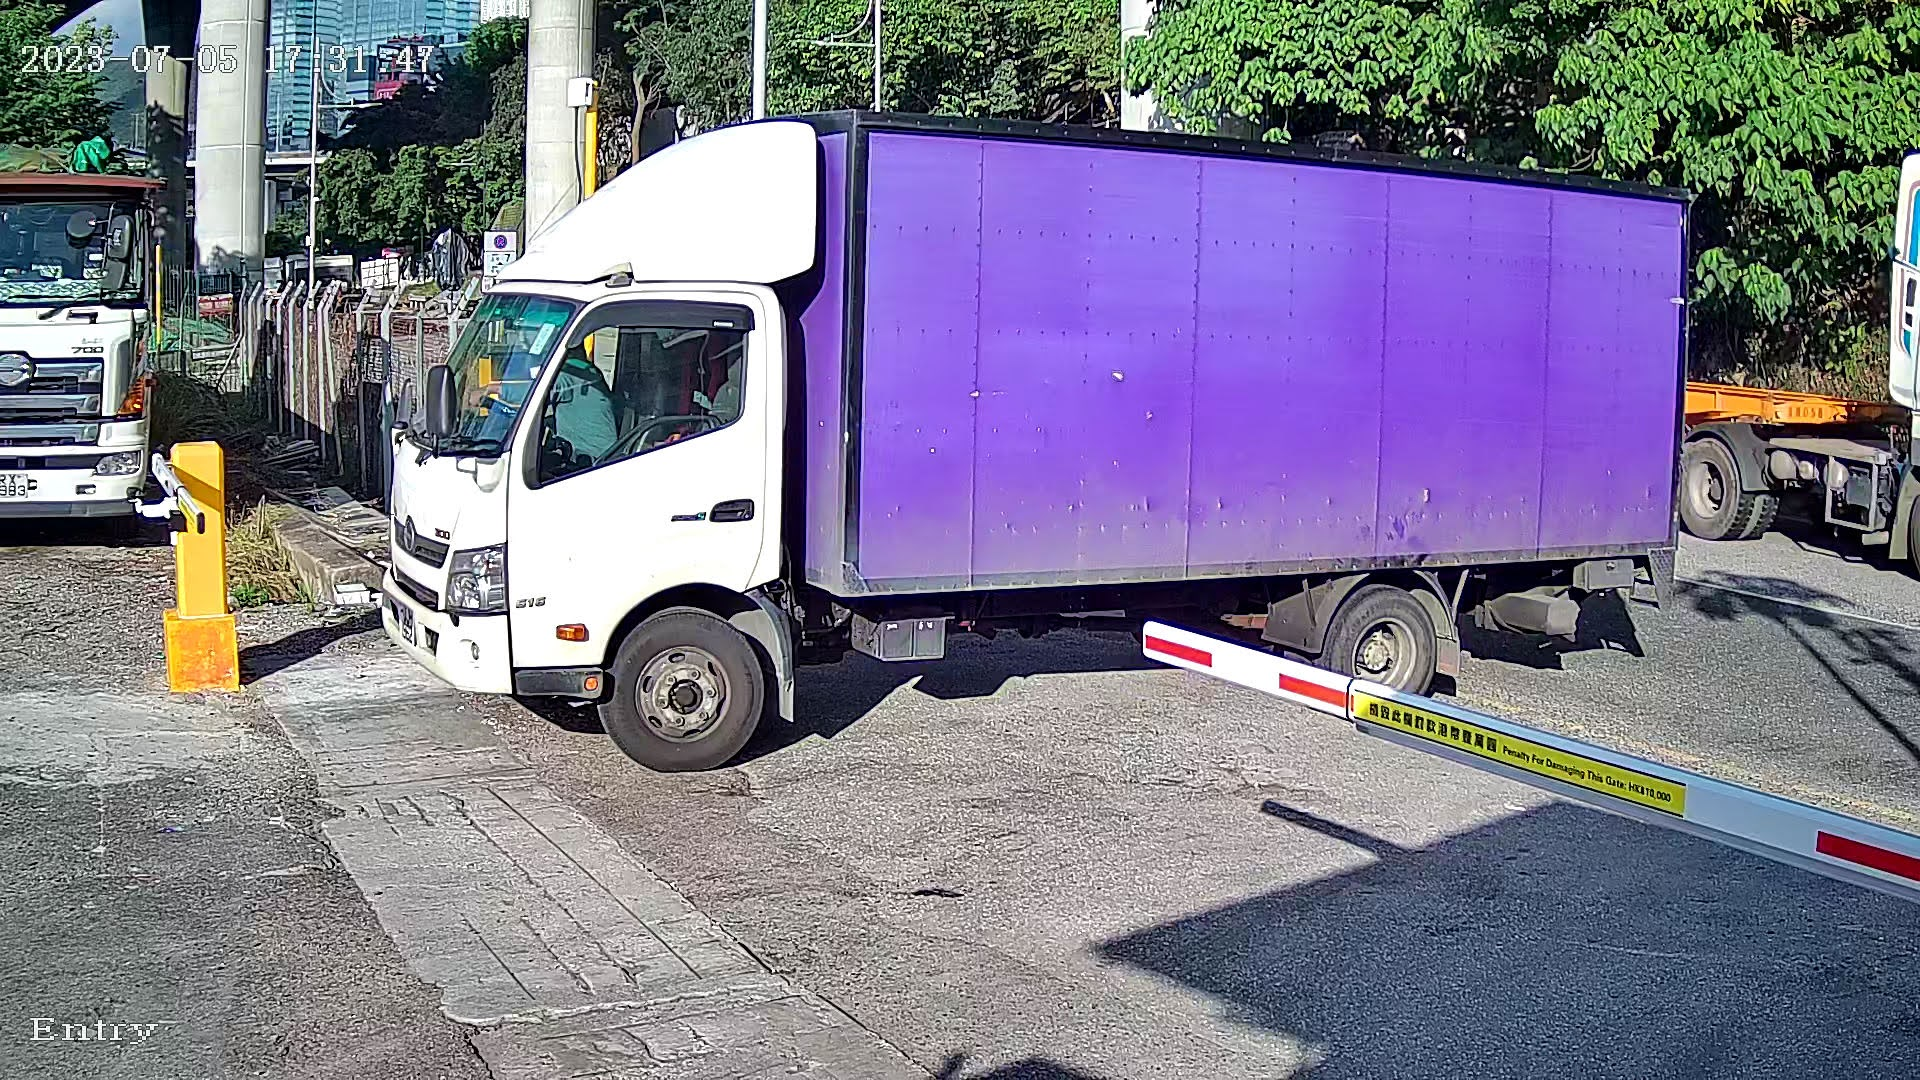truck: (344, 96, 1717, 777)
